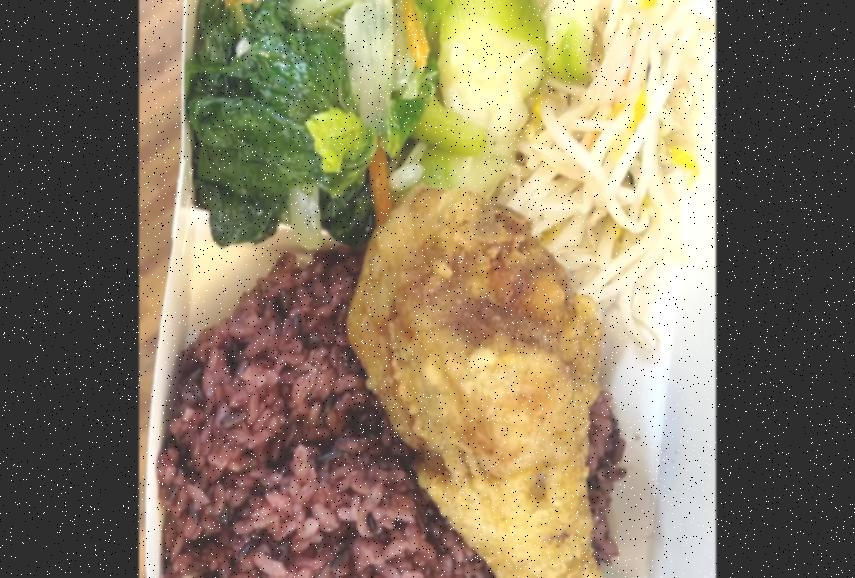big grilled chicken leg: (154, 0, 704, 578)
braised fish: (161, 253, 630, 578)
braised fish fillet: (186, 0, 428, 247), (521, 0, 691, 307), (416, 0, 546, 200)
braised pork: (342, 187, 631, 578)
